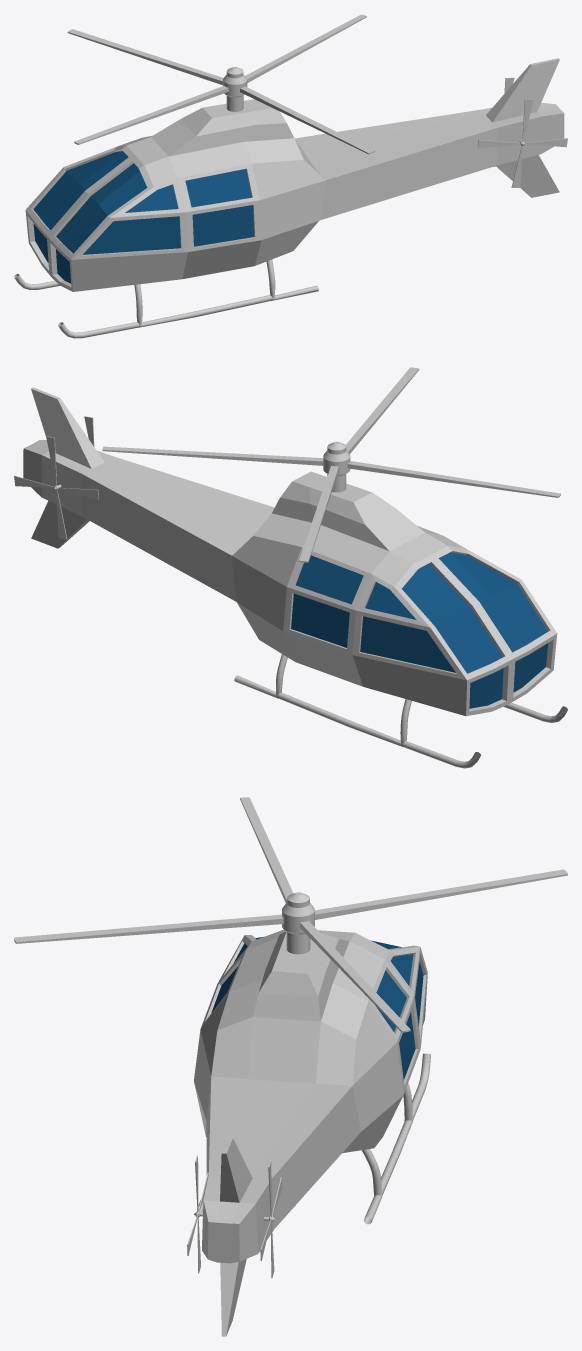
The model's file is helicopter_animation_000215.obj.
3 renders of one model, top to bottom at view 1: azimuth 30°, elevation 25°; view 2: azimuth 150°, elevation 25°; view 3: azimuth 270°, elevation 25°, orthographic. The views are drawn at different scales.
Visible parts, largest first — view 1: Helicopter.007_Cylinder.008, Helicopter.001_Cylinder.001, Helicopter.003_Cylinder.004; view 2: Helicopter.007_Cylinder.008, Helicopter.001_Cylinder.001, Helicopter.004_Cylinder.005; view 3: Helicopter.007_Cylinder.008, Helicopter.001_Cylinder.001.
Part boxes in pixels (<box>): Helicopter.007_Cylinder.008: <box>14,58,564,338</box>; Helicopter.001_Cylinder.001: <box>67,14,374,154</box>; Helicopter.003_Cylinder.004: <box>477,99,567,187</box>; Helicopter.007_Cylinder.008: <box>23,387,567,768</box>; Helicopter.001_Cylinder.001: <box>102,367,560,562</box>; Helicopter.004_Cylinder.005: <box>14,436,98,539</box>; Helicopter.007_Cylinder.008: <box>194,929,430,1336</box>; Helicopter.001_Cylinder.001: <box>14,797,567,1032</box>.
Size of the model in its own units: 7.56 by 3.2 by 5.37.
